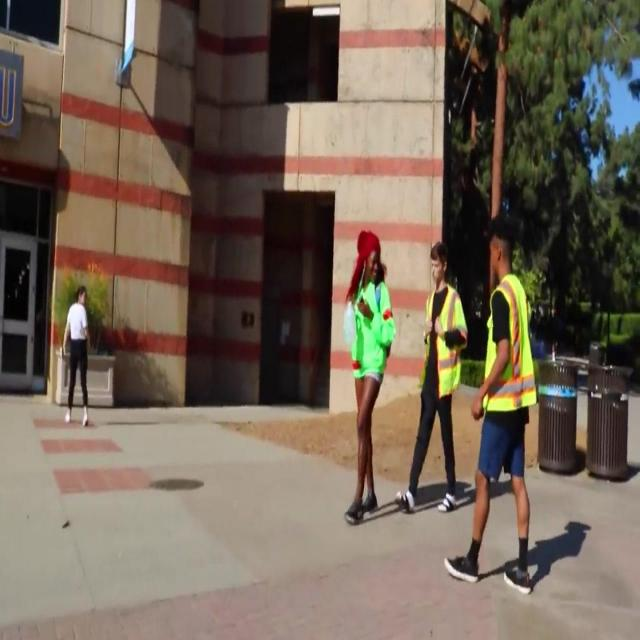Reflective-Jacket: (476, 272, 544, 425), (414, 279, 470, 405)
